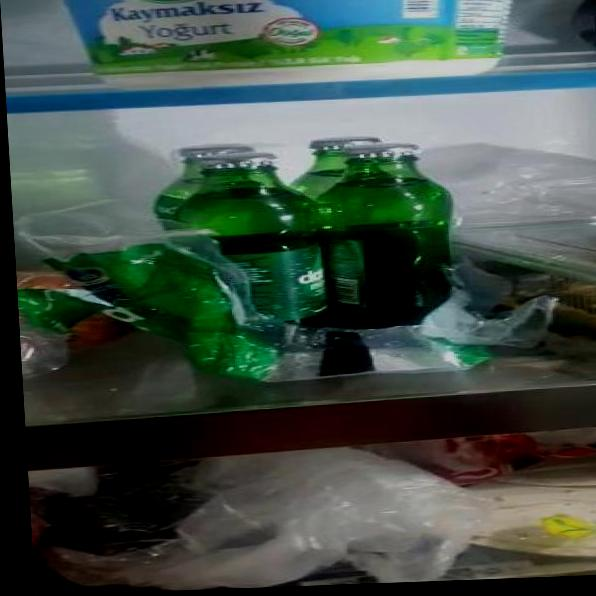mineral water: (161, 136, 455, 322)
yoghurt: (40, 0, 520, 91)
